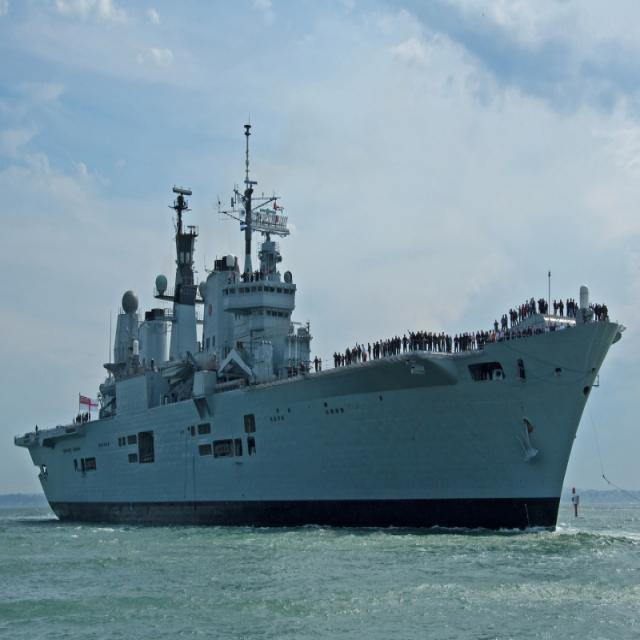Portanaves: (8, 115, 632, 541)
